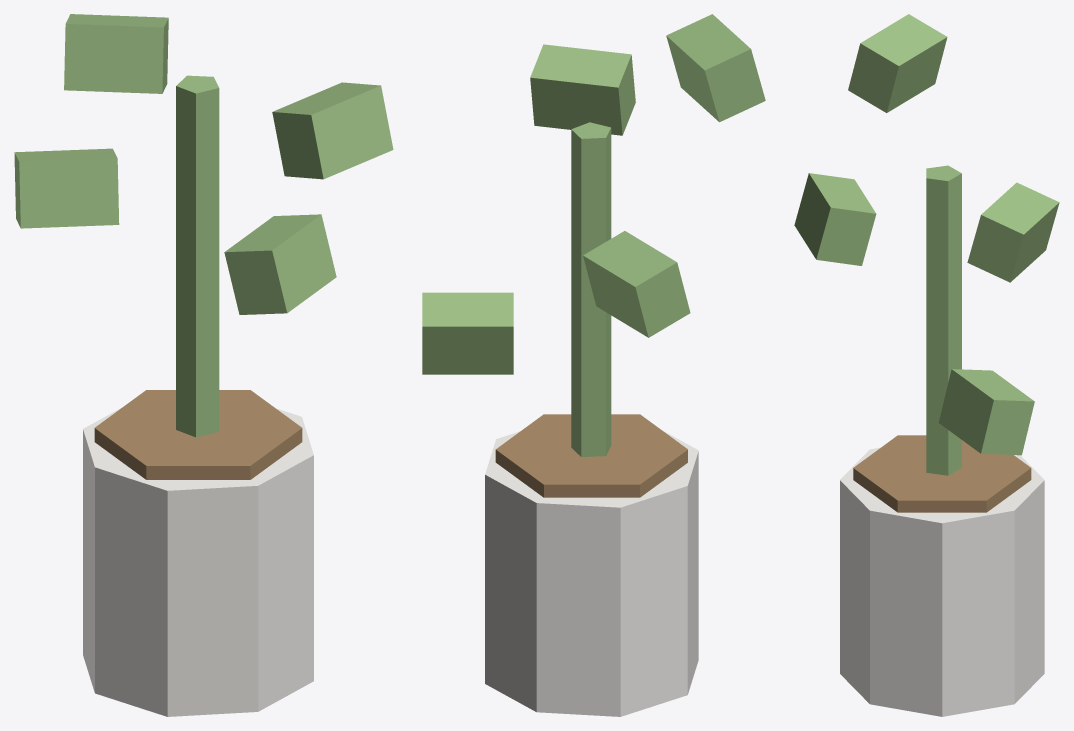
The model's file is plant_medium.glb.
3 renders of one model, left to right at view 1: azimuth 30°, elevation 25°; view 2: azimuth 150°, elevation 25°; view 3: azimuth 270°, elevation 25°, orthographic. The views are drawn at different scales.
Visible parts, largest first — view 1: Plant_Medium; view 2: Plant_Medium; view 3: Plant_Medium.
Boxes of the visible parts, x1,y1,x2,y2 form: Plant_Medium: (14, 14, 393, 716); Plant_Medium: (422, 14, 765, 716); Plant_Medium: (794, 14, 1059, 716).
Size of the model in its own units: 0.3576 by 0.7385 by 0.2978.
